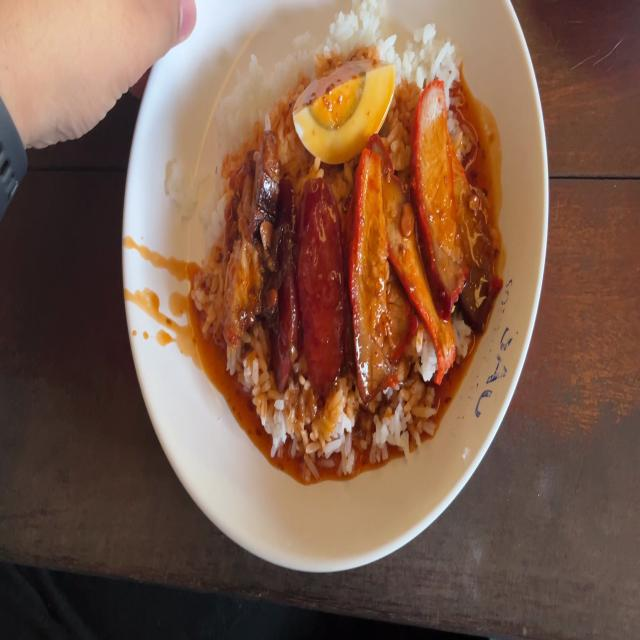01boiled_egg: (291, 58, 395, 153)
01chainese_sausage: (274, 181, 339, 385)
01crispy_pork: (223, 134, 280, 333)
01red_pork: (351, 146, 446, 385), (415, 88, 468, 308)
01red_pork_and_crispy_pork: (212, 15, 494, 434)
01rice: (249, 394, 429, 453), (398, 39, 471, 87), (333, 15, 391, 60)
